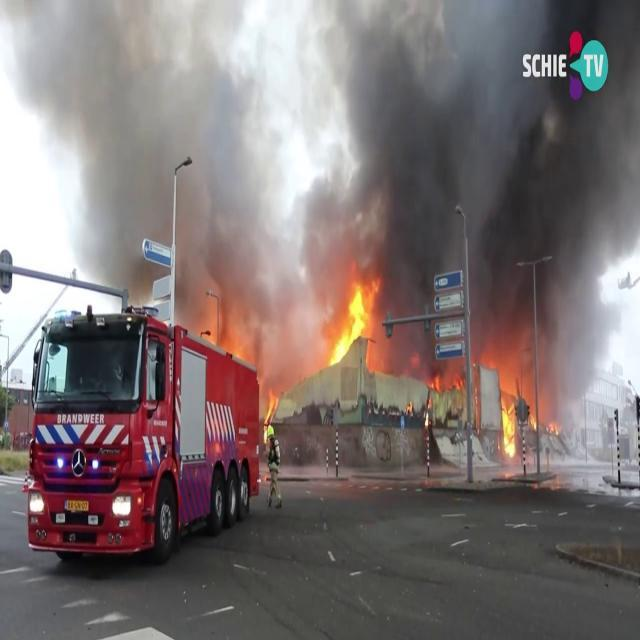Fire: (478, 328, 544, 460), (327, 278, 385, 372)
Smoke: (9, 1, 637, 332), (0, 0, 344, 329), (303, 1, 639, 334)
